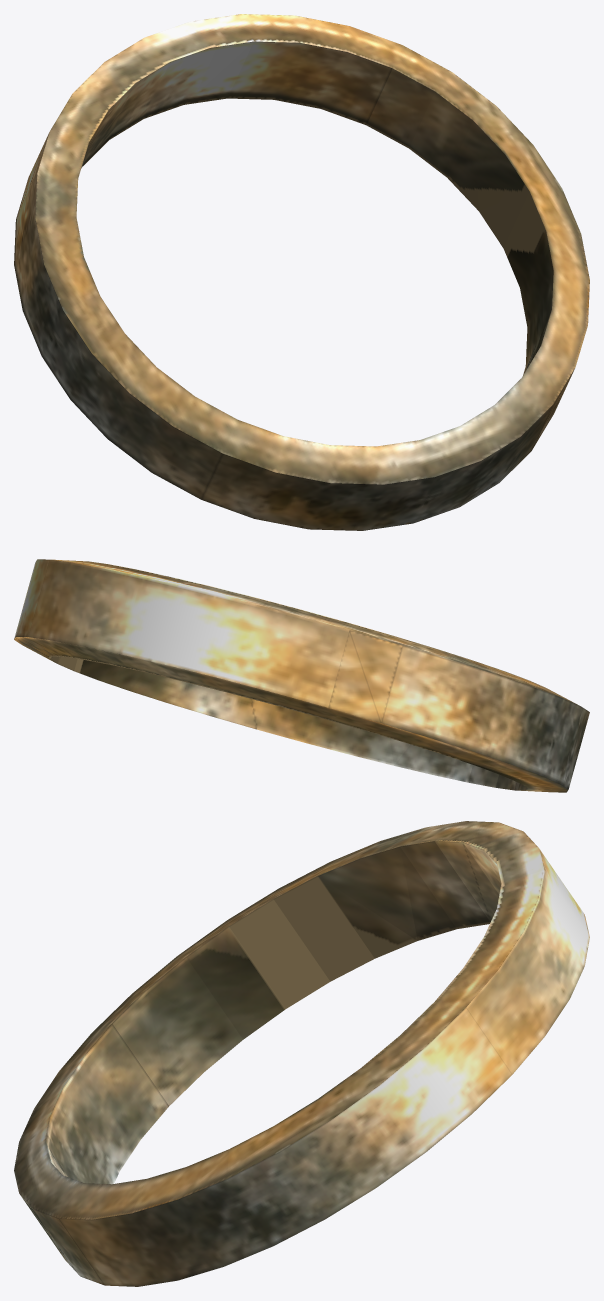
The model's file is item_mm9_10155.glb.
3 renders of one model, top to bottom at view 1: azimuth 30°, elevation 25°; view 2: azimuth 150°, elevation 25°; view 3: azimuth 270°, elevation 25°, orthographic. The views are drawn at different scales.
Visible parts, largest first — view 1: d10155; view 2: d10155; view 3: d10155.
Part boxes in pixels (x1=…): d10155: x1=14, y1=14, x2=589, y2=530; d10155: x1=14, y1=559, x2=589, y2=792; d10155: x1=14, y1=821, x2=589, y2=1286.
Size of the model in its own units: 28.8 by 18.68 by 26.56.
1 material, 1 textured.
